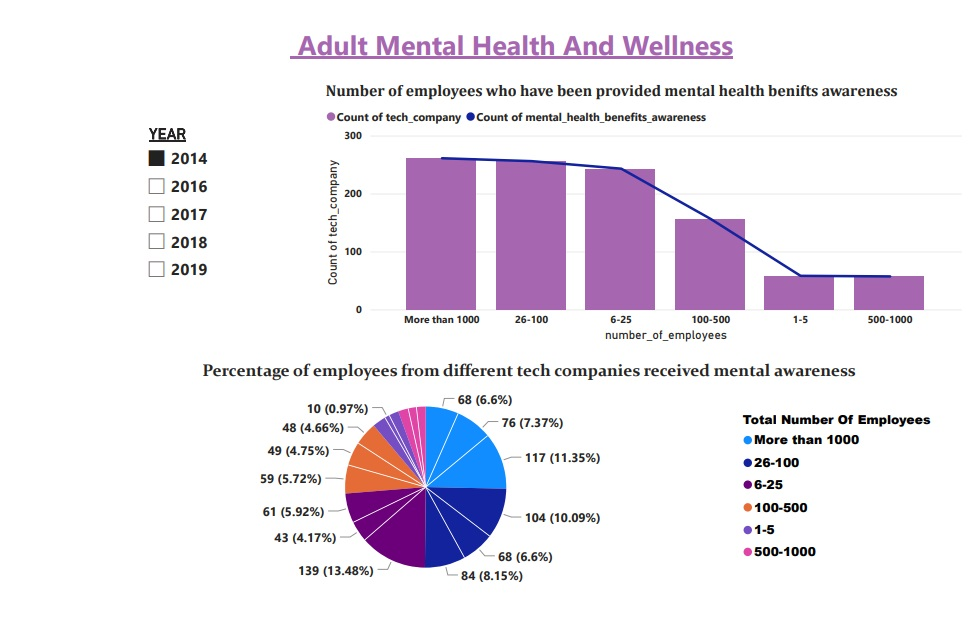

This screenshot's page, from the dashboard's own definition file:
{"tool":"powerbi","page":{"name":"Page 1","canvas":[1280,720],"ordinal":0},"visuals":[{"type":"group","id":"g1","title":"Group 2","box":[145.3,87.7,1024.4,609.1],"z":0},{"type":"group","id":"g2","title":"Group 1","box":[185,87.7,984.7,315.5],"z":0,"group":"g1"},{"type":"slicer","fields":{"Values":["Mental health in tech survey 2014-2019.year"]},"box":[185,134.7,194.7,224.9],"z":0,"group":"g2"},{"type":"textbox","box":[38.4,15.1,1155.8,52.1],"z":1000},{"type":"lineStackedColumnComboChart","title":"Number of employees who have been provided mental health benifts awareness","fields":{"Category":["Mental health in tech survey 2014-2019.number_of_employees"],"Y":["CountNonNull(Mental health in tech survey 2014-2019.tech_company)"],"Y2":["CountNonNull(Mental health in tech survey 2014-2019.mental_health_benefits_awareness)"]},"box":[403.3,87.7,766.4,315.5],"z":1000,"group":"g2"},{"type":"pieChart","title":"Percentage of employees from different tech companies received mental awareness","fields":{"Category":["Mental health in tech survey 2014-2019.number_of_employees"],"Y":["CountNonNull(Mental health in tech survey 2014-2019.tech_company)"],"Series":["Mental health in tech survey 2014-2019.mental_health_benefits_awareness"]},"box":[145.3,418.5,1010.5,278.3],"z":1000,"group":"g1"}]}

Visuals, with their boxes on the page's 1280x720 design canvas (x1, y1, x2, y2). These are canvas units, not pixel positions in the 975x630 screenshot, which may show the page scaled, cropped or inside an application window:
"Group 2" group: box(145, 88, 1170, 697)
"Group 1" group: box(185, 88, 1170, 403)
slicer - Mental health in tech survey 2014-2019.year: box(185, 135, 380, 360)
textbox: box(38, 15, 1194, 67)
"Number of employees who have been provided mental health benifts awareness" lineStackedColumnComboChart: box(403, 88, 1170, 403)
"Percentage of employees from different tech companies received mental awareness" pieChart: box(145, 418, 1156, 697)
